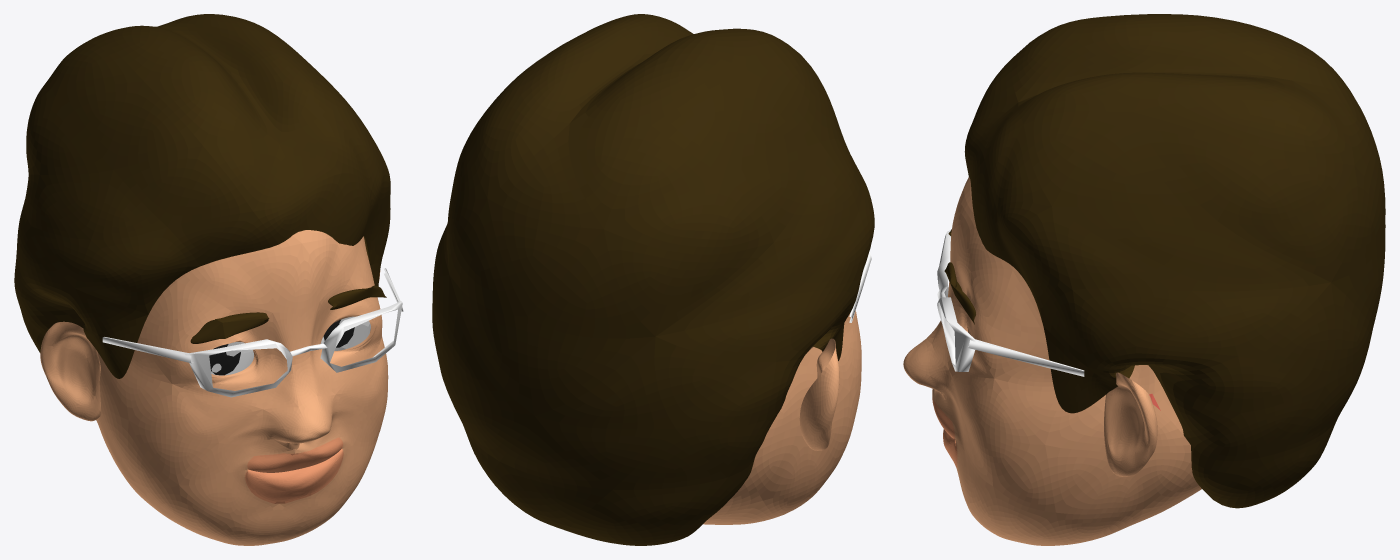
Rendered from adam-face.glb.
The picture shows the model from 3 angles, left to right: view 1: azimuth 30°, elevation 25°; view 2: azimuth 150°, elevation 25°; view 3: azimuth 270°, elevation 25°; orthographic projection. The views are drawn at different scales.
Visible parts, largest first — view 1: Head, Glasses, Emotions; view 2: Head; view 3: Head, Glasses.
Part boxes in pixels (x1,y1,x2,y2): Head: [14, 14, 390, 545]; Glasses: [102, 268, 403, 397]; Emotions: [209, 316, 354, 375]; Head: [432, 14, 874, 545]; Head: [903, 14, 1385, 545]; Glasses: [937, 230, 1084, 376].
Size of the model in its own units: 0.9468 by 1.24 by 1.1.
